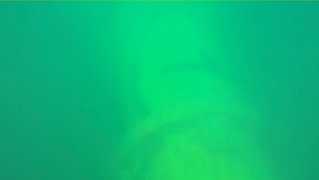1: (157, 50, 223, 79)
pipe: (104, 1, 272, 179)
